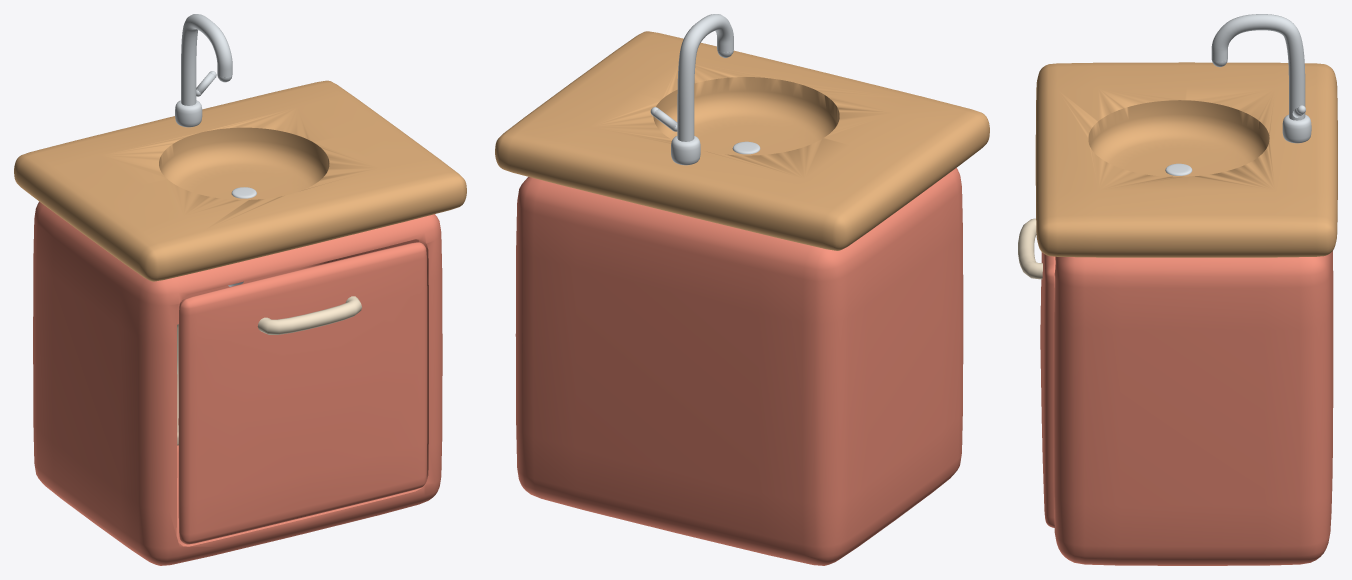
Rendered from sink_b.glb.
3 renders of one model, left to right at view 1: azimuth 30°, elevation 25°; view 2: azimuth 150°, elevation 25°; view 3: azimuth 270°, elevation 25°, orthographic. The views are drawn at different scales.
Visible parts, largest first — view 1: body, door; view 2: body; view 3: body, door.
Boxes of the visible parts, bbox=[...] form: body: bbox=[14, 14, 466, 565]; door: bbox=[178, 242, 427, 544]; body: bbox=[495, 14, 989, 565]; body: bbox=[1035, 14, 1337, 565]; door: bbox=[1018, 218, 1055, 527].
Bounding box in the file's own units: 0.88 × 1.18 × 0.704.
